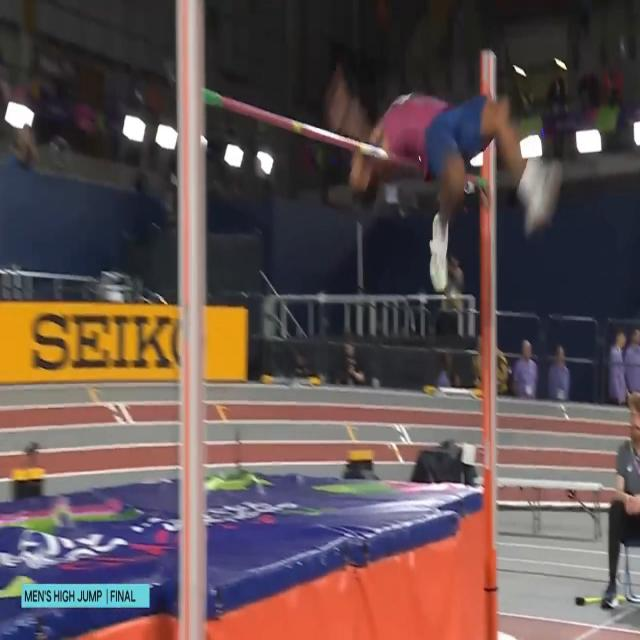jump: (327, 65, 563, 292)
